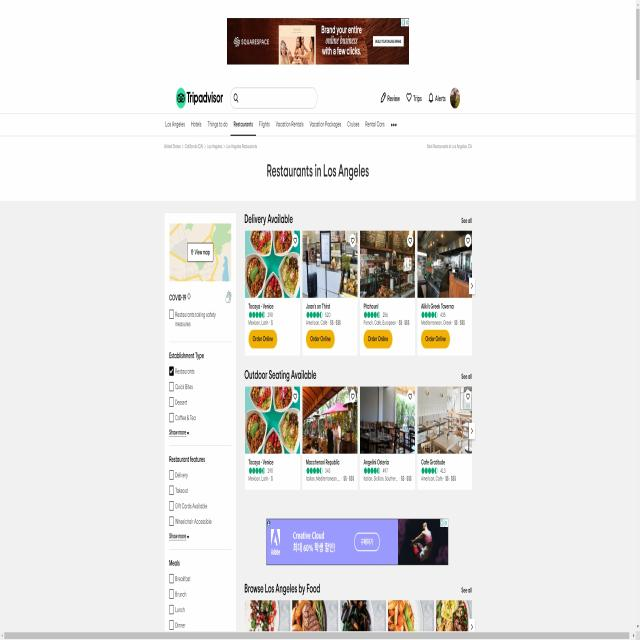menu-bar: (379, 86, 461, 108)
menu-panel: (164, 212, 236, 630)
search: (230, 83, 320, 110)
tab-bar: (162, 117, 398, 132)
